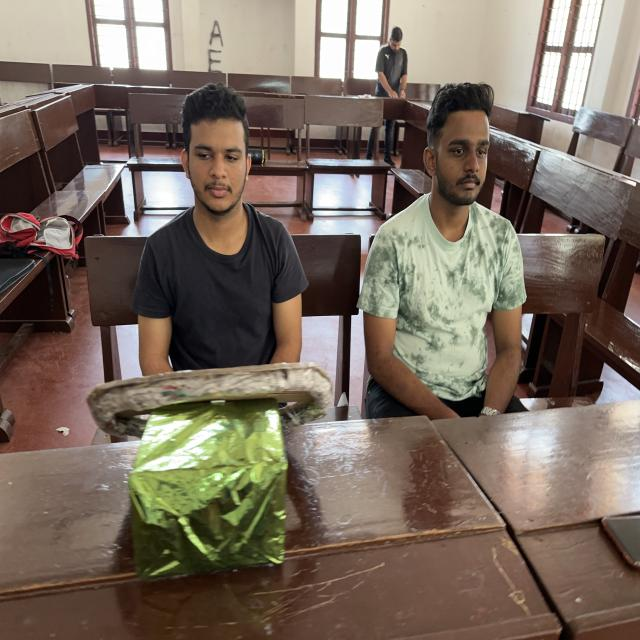Helmet: (360, 179, 537, 436), (120, 198, 308, 383)
